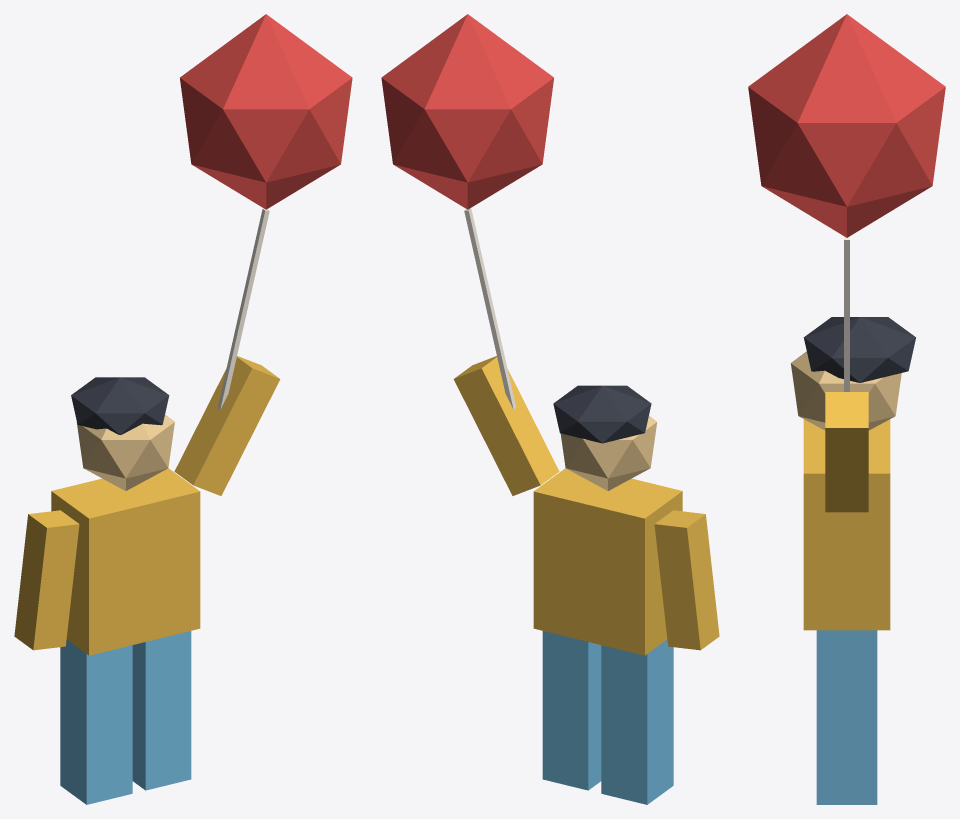
File: people_child.glb
3 views of the same model, side by side, from view 1: azimuth 30°, elevation 25°; view 2: azimuth 150°, elevation 25°; view 3: azimuth 270°, elevation 25° (orthographic). The views are drawn at different scales.
Parts seen in each view (by area): view 1: people_child; view 2: people_child; view 3: people_child.
Part boxes in pixels (bbox=[...]): people_child: bbox=[14, 14, 352, 804]; people_child: bbox=[381, 14, 719, 804]; people_child: bbox=[748, 14, 945, 804].
Bounding box in the file's own units: 0.0678 × 0.15 × 0.032.
